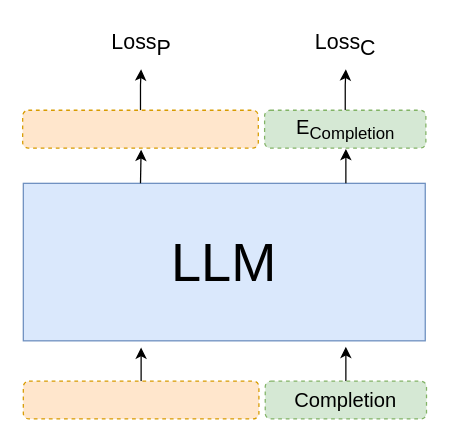
The diagram is 449 pixels wide and 441 high, and some of its shapes have lost their labels. The shapes that lost their labels are listed below. From the top down, each one's centre as x and y in pixels, then its label:
At [139,128]: "E Prompt".
At [140,399]: "Prompt".
